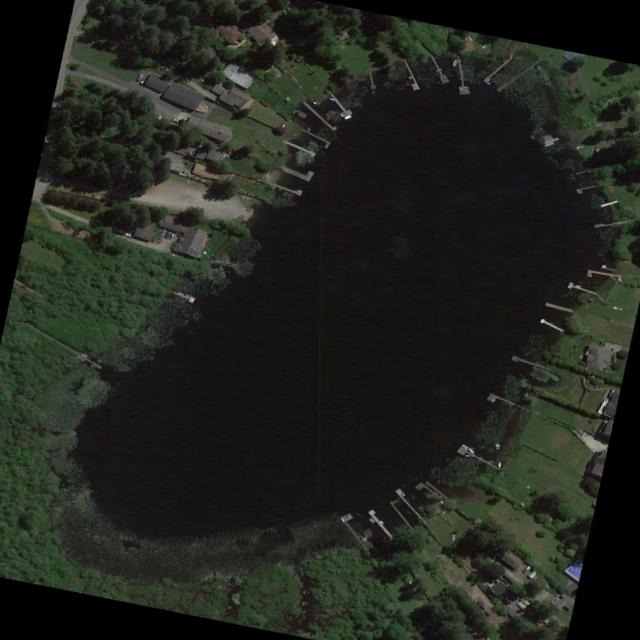ship: (451, 57, 459, 65), (343, 113, 352, 119), (312, 99, 321, 104), (586, 272, 593, 276), (612, 305, 618, 308), (498, 460, 501, 466), (465, 453, 471, 455)
small-vehicle: (522, 564, 531, 572), (125, 231, 134, 237), (173, 117, 181, 122), (185, 149, 193, 154), (169, 232, 175, 238)
